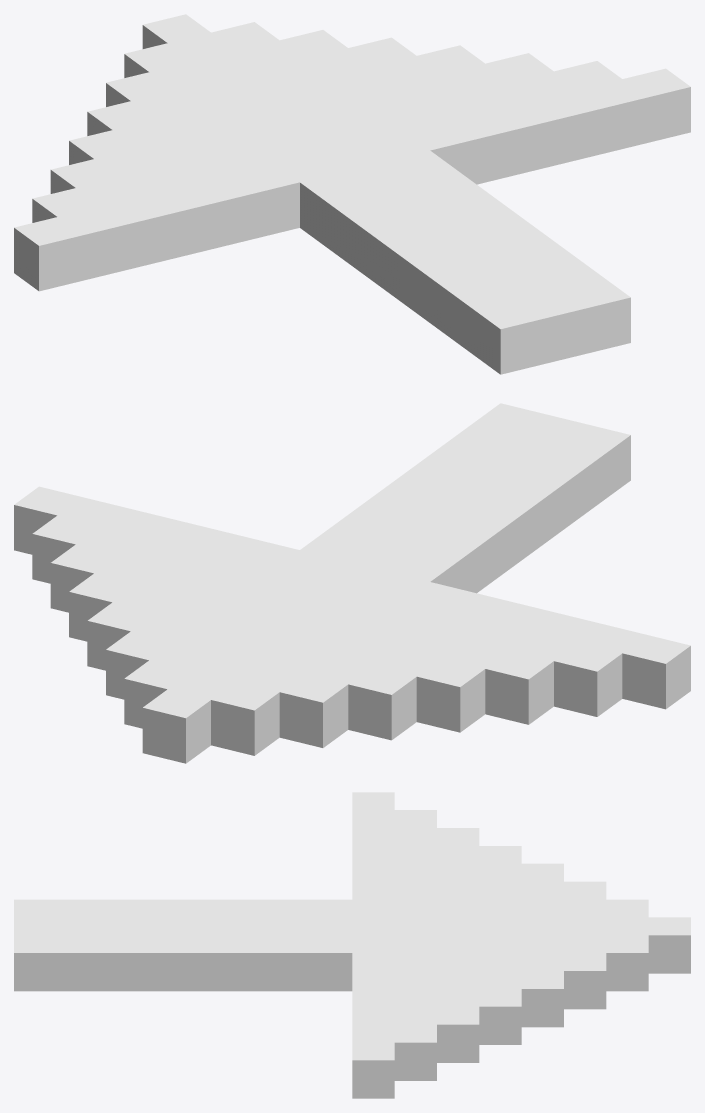
The model's file is arrowx10North.gltf.
3 views of the same model, one above another, from view 1: azimuth 30°, elevation 25°; view 2: azimuth 150°, elevation 25°; view 3: azimuth 270°, elevation 25° (orthographic). The views are drawn at different scales.
Parts seen in each view (by area): view 1: cube (×9); view 2: cube (×9); view 3: cube (×9).
Boxes of the visible parts, x1,y1,x2,y2 form: cube (×9): [14, 14, 690, 374]; cube (×9): [14, 403, 690, 763]; cube (×9): [14, 792, 690, 1098].
Size of the model in its own units: 1.5 by 0.1 by 1.6.
1 material, 1 textured.
